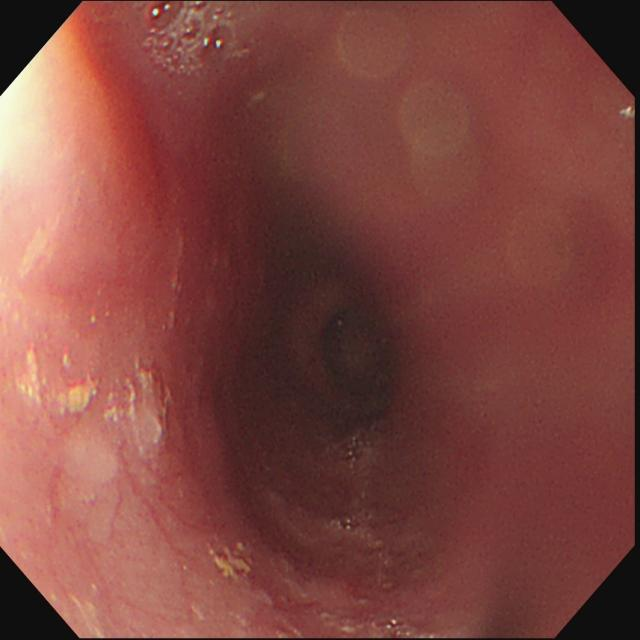E: (276, 278, 397, 432)
J: (105, 367, 170, 457), (17, 352, 97, 414), (210, 537, 256, 585)
T: (141, 2, 237, 81)
